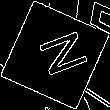N_W: (24, 27, 86, 83)
